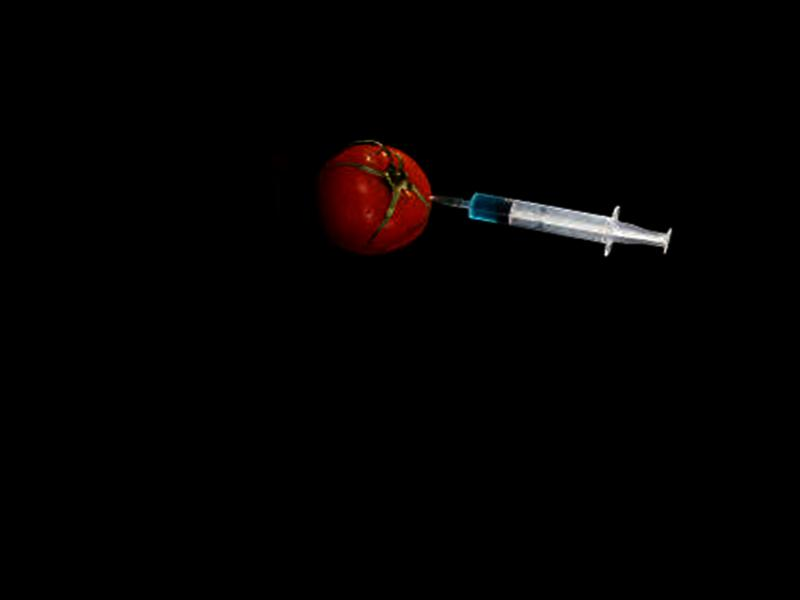Tomato: (315, 137, 436, 259)
